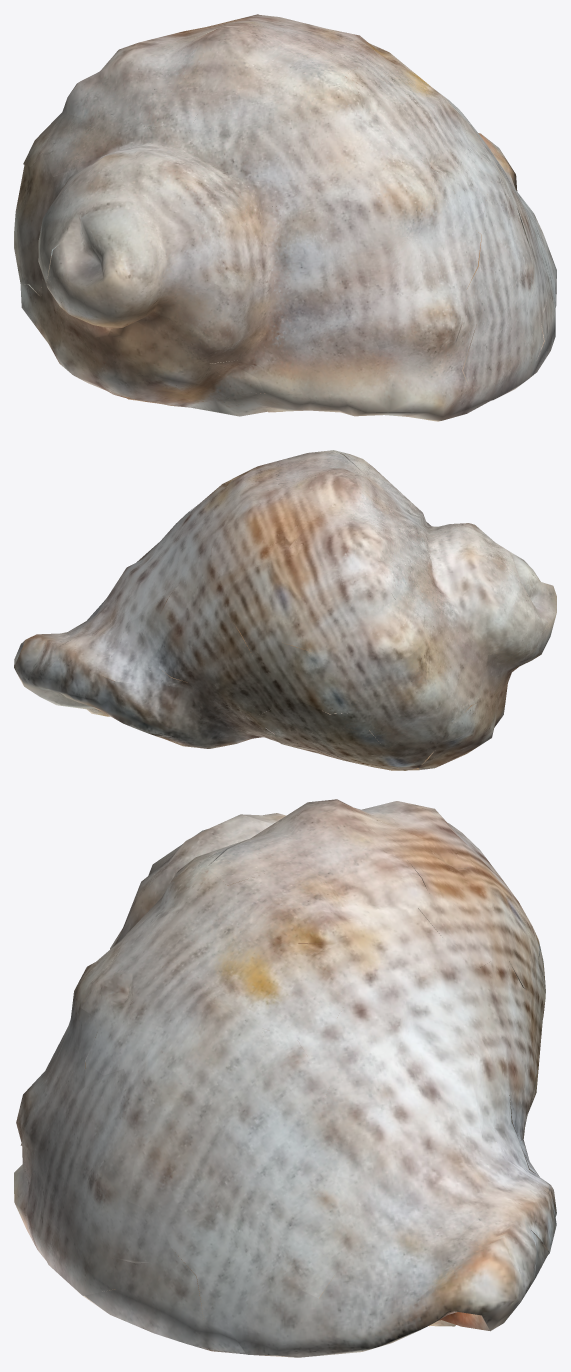
The model's file is whelk-medium.glb.
3 views of the same model, one above another, from view 1: azimuth 30°, elevation 25°; view 2: azimuth 150°, elevation 25°; view 3: azimuth 270°, elevation 25° (orthographic). The views are drawn at different scales.
Parts seen in each view (by area): view 1: Whelk; view 2: Whelk; view 3: Whelk.
Boxes of the visible parts, box(x1,y1,x2,y2) form: Whelk: box(14, 14, 556, 421); Whelk: box(14, 450, 556, 770); Whelk: box(14, 799, 556, 1357).
Size of the model in its own units: 1.09 by 0.6389 by 0.7937.
1 material, 1 textured.
